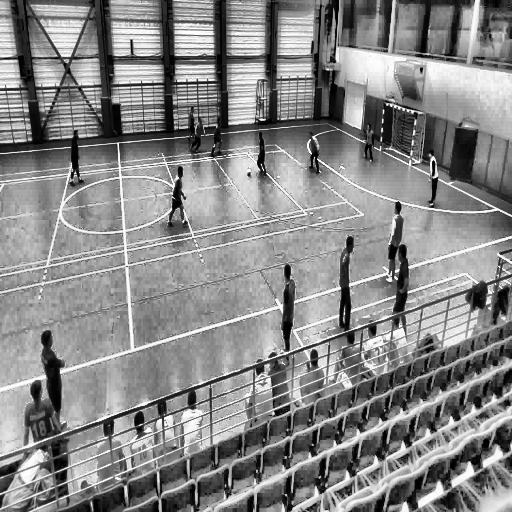ball: (246, 166, 252, 177)
player: (41, 330, 66, 430), (280, 260, 296, 364), (338, 234, 354, 330), (386, 200, 404, 283), (169, 166, 188, 228), (69, 127, 85, 186), (427, 148, 439, 210), (190, 113, 206, 155), (306, 131, 320, 174), (256, 130, 268, 180), (210, 116, 224, 157), (362, 122, 374, 165), (186, 103, 196, 144)
